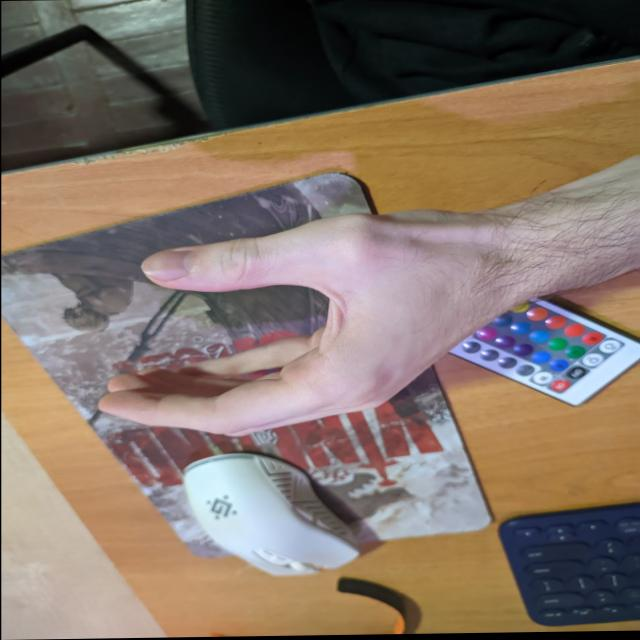s: (123, 203, 470, 451)
